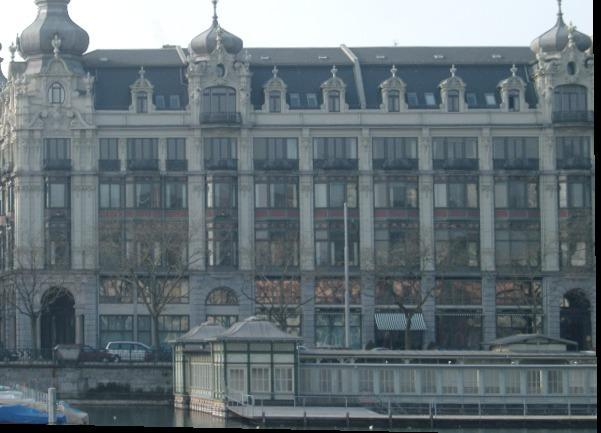window: (99, 220, 189, 269), (496, 310, 542, 350), (316, 309, 362, 349), (255, 309, 301, 349), (437, 311, 483, 350), (495, 230, 541, 268), (435, 230, 479, 269), (255, 230, 300, 268), (315, 230, 359, 268), (375, 230, 419, 268), (493, 177, 539, 210), (315, 177, 360, 210), (373, 177, 418, 210), (433, 176, 478, 209), (255, 176, 300, 208), (202, 85, 237, 125), (314, 276, 361, 305), (497, 277, 544, 306), (256, 276, 302, 305), (436, 277, 482, 306), (375, 277, 422, 305), (554, 84, 588, 122), (207, 229, 239, 268), (99, 315, 134, 350), (155, 315, 190, 350), (125, 177, 162, 209), (46, 223, 71, 269), (561, 230, 591, 267), (559, 176, 591, 209), (494, 138, 541, 160), (372, 138, 419, 160), (253, 138, 300, 160), (207, 177, 238, 210), (156, 276, 191, 305), (99, 276, 134, 305), (432, 138, 479, 159), (312, 139, 359, 160), (45, 177, 71, 210), (205, 286, 240, 307), (558, 138, 591, 159), (100, 178, 122, 209), (165, 178, 187, 209), (44, 138, 72, 161), (127, 139, 159, 159), (205, 139, 237, 159), (138, 315, 153, 351), (48, 82, 66, 108), (137, 276, 151, 305), (167, 139, 186, 160), (208, 317, 239, 329), (101, 139, 118, 160), (137, 91, 149, 114), (270, 91, 282, 113), (509, 90, 521, 112), (330, 91, 341, 114), (389, 90, 400, 112), (449, 90, 460, 112), (566, 61, 580, 77), (215, 64, 228, 79), (156, 97, 165, 108), (171, 98, 180, 109), (409, 94, 417, 106), (468, 94, 476, 106), (292, 96, 300, 107), (308, 96, 316, 107), (427, 94, 435, 105), (488, 94, 496, 105)
